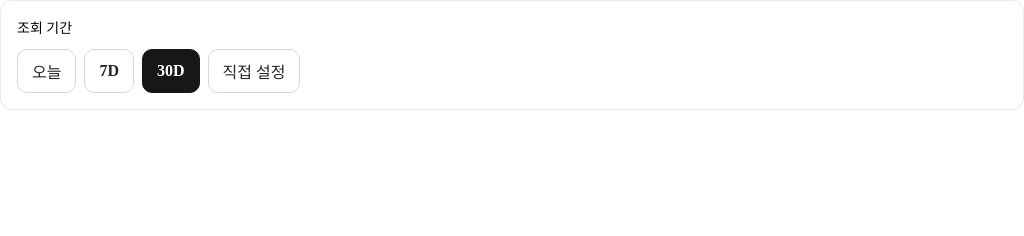
Test: AnalyticsWindowControl › rejects an inverted custom interval
Click the button "직접 설정": (254, 71) x1=208 y1=49 x2=300 y2=93
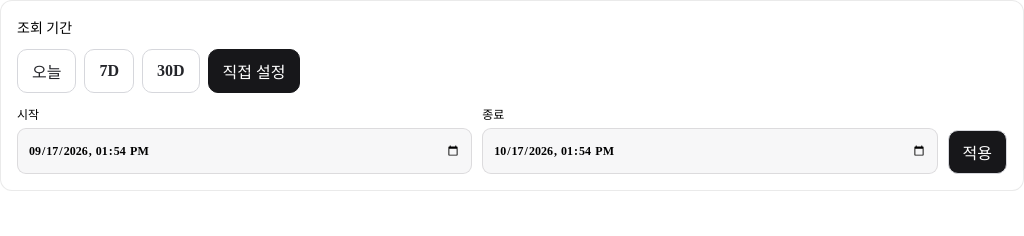
Replace the text in the field labelled "시작" with "2026-09-04T10:00": (245, 151) x1=17 y1=128 x2=472 y2=174
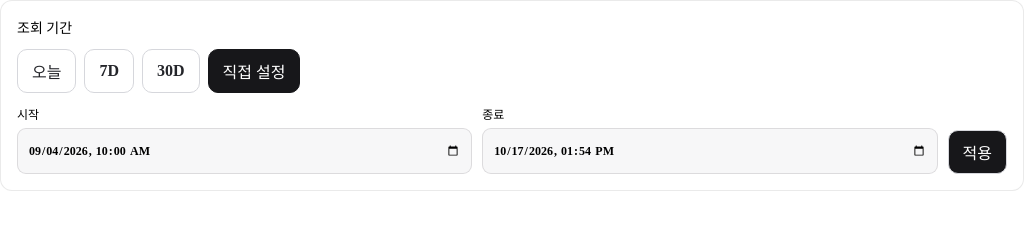
Replace the text in the field labelled "종료" with "2026-09-04T09:00": (710, 151) x1=482 y1=128 x2=938 y2=174
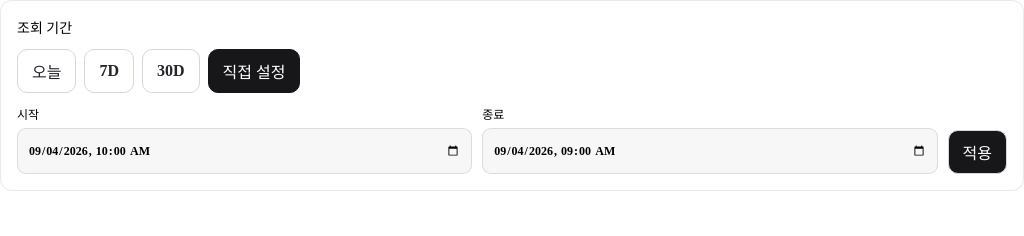
Click the button "적용": (977, 152) x1=948 y1=130 x2=1007 y2=174
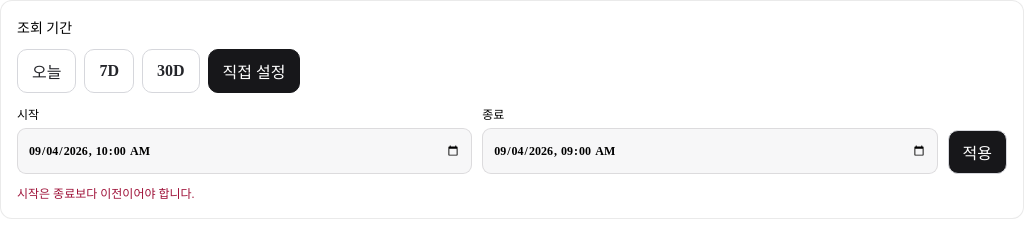
Expected: the message "시작은 종료보다 이전이어야 합니다." is shown, x1=17 y1=187 x2=195 y2=201
